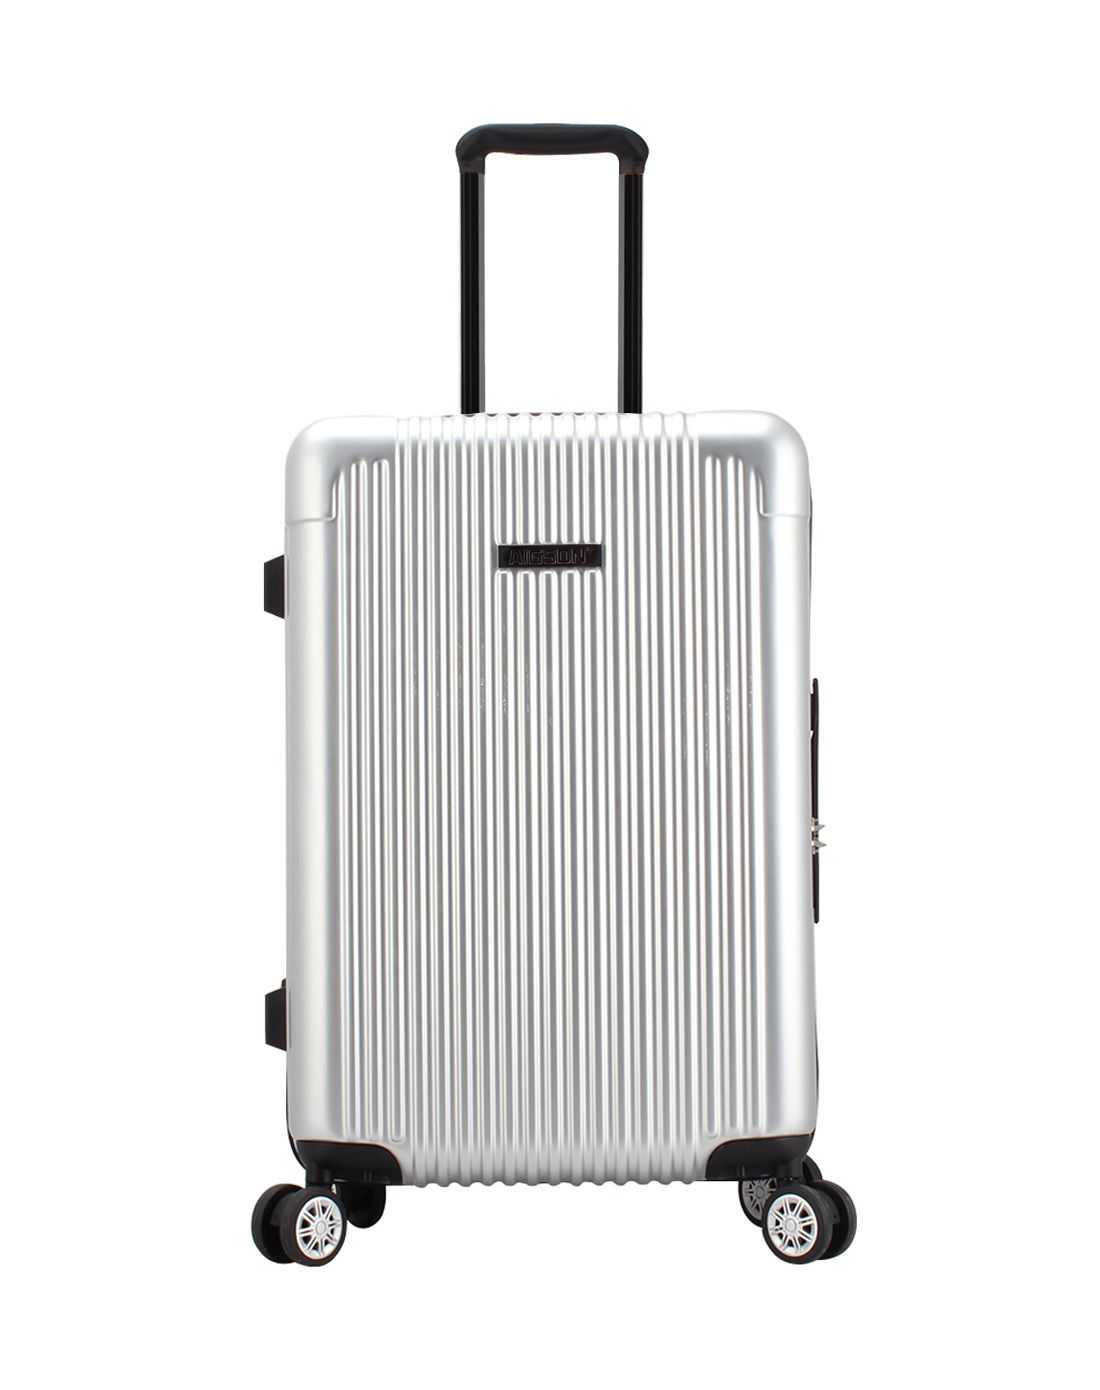luggage: (250, 120, 857, 1268)
